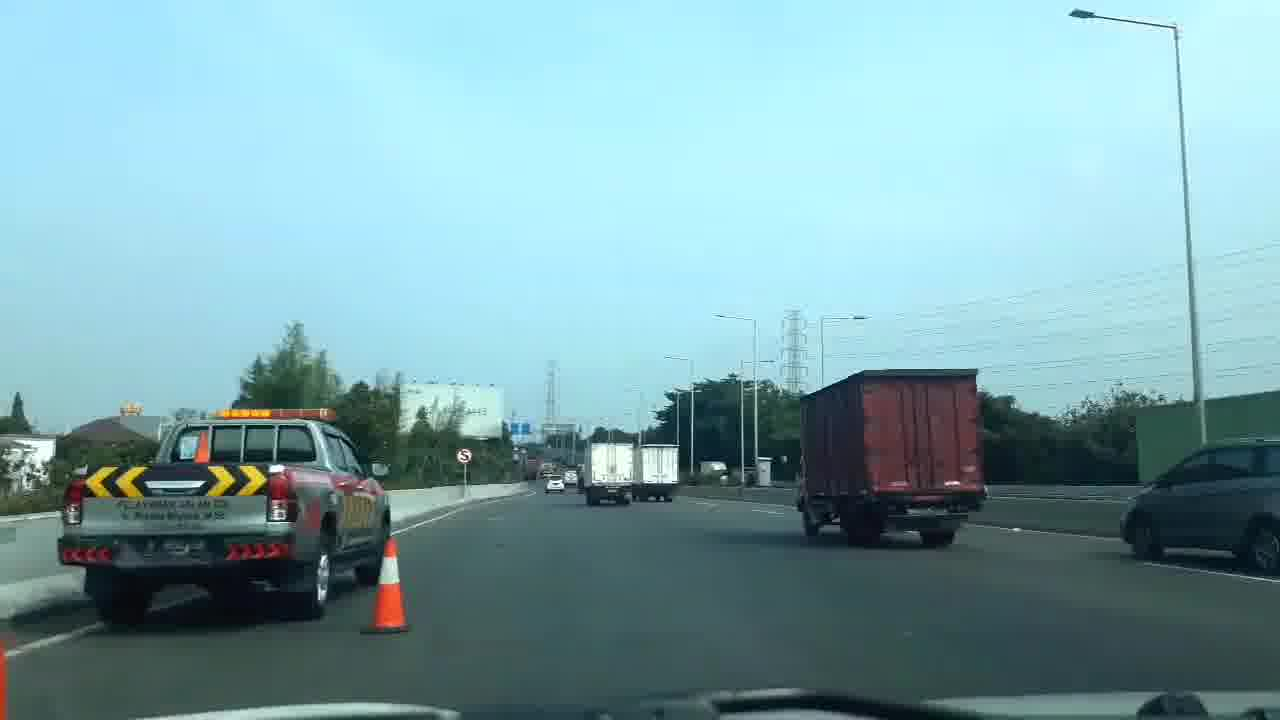plate_positive: (906, 507, 947, 516)
